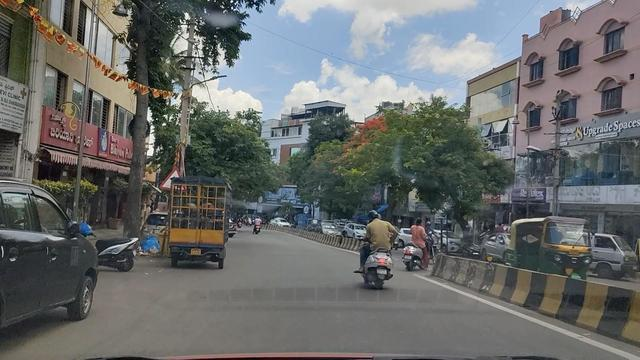LMV: (170, 181, 231, 263), (362, 212, 391, 283), (404, 210, 434, 268)
